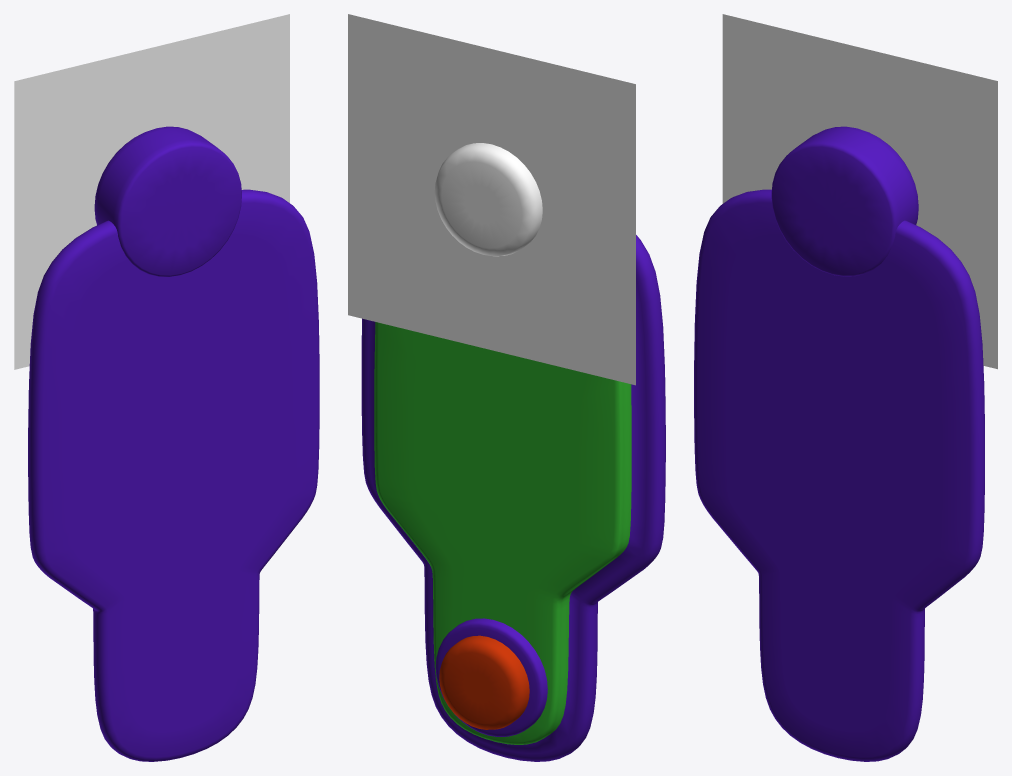
The model's file is TouchSign.fbx.
3 renders of one model, left to right at view 1: azimuth 30°, elevation 25°; view 2: azimuth 150°, elevation 25°; view 3: azimuth 330°, elevation 25°, orthographic. The views are drawn at different scales.
Visible parts, largest first — view 1: TouchSign, Plane001; view 2: TouchSign, Plane001; view 3: TouchSign, Plane001.
Part boxes in pixels (x1,y1,x2,y2): TouchSign: [28, 126, 319, 761]; Plane001: [14, 14, 289, 369]; TouchSign: [361, 143, 665, 761]; Plane001: [348, 14, 635, 385]; TouchSign: [694, 126, 984, 761]; Plane001: [722, 14, 997, 369].
Bounding box in the file's own units: 72.91 × 17.33 × 168.
